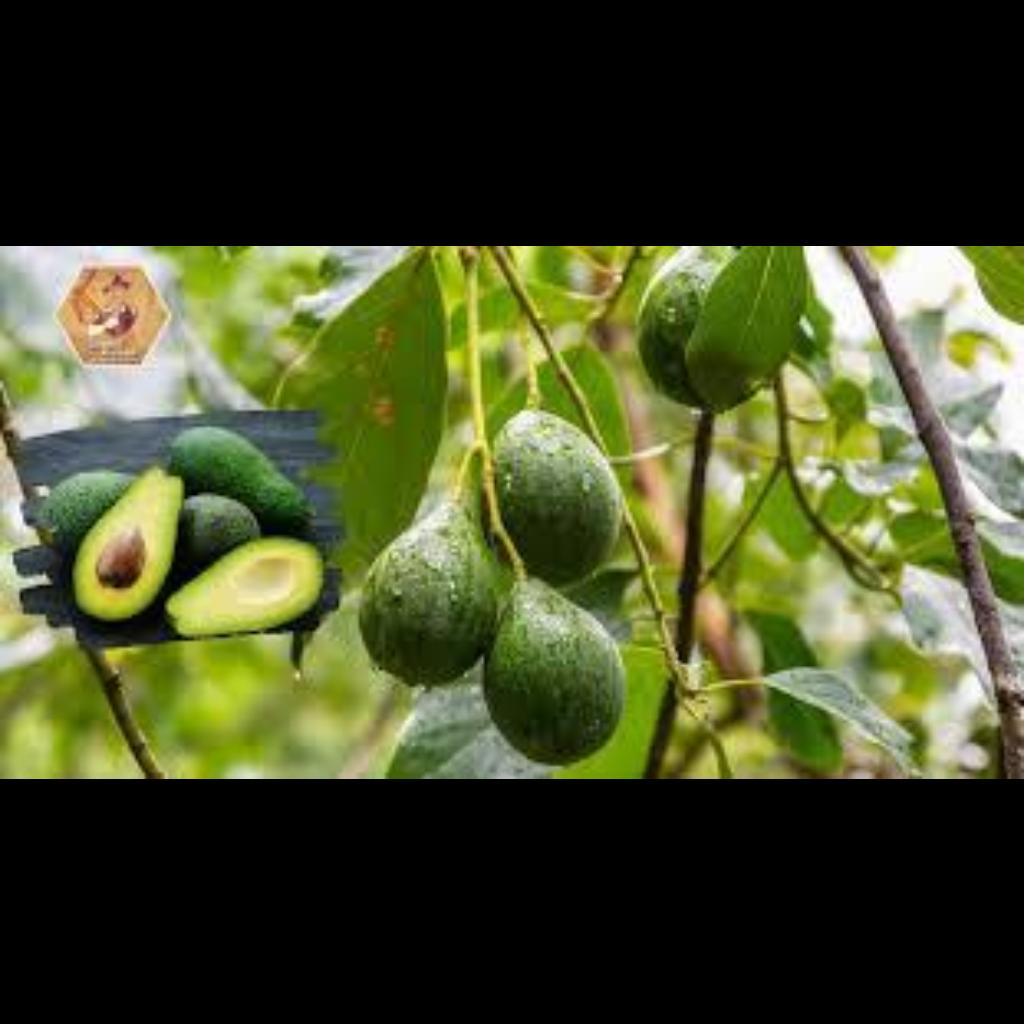Anthracnose: (380, 523, 630, 753)
